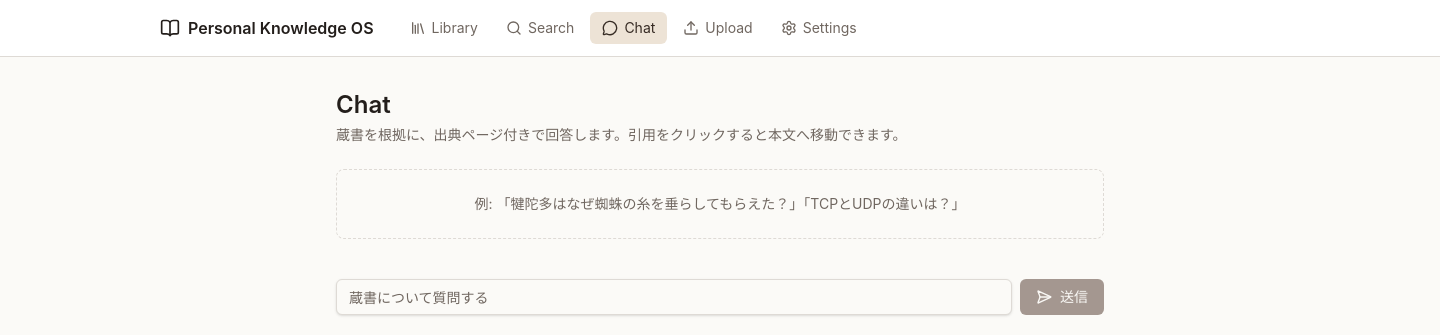
Scenario: ChatPage › ストリームエラー時はエラーメッセージを表示する
The width and height of the screenshot is (1440, 335).
Type "質問" into the field labelled "質問" at (674, 297), box [336, 279, 1012, 315]
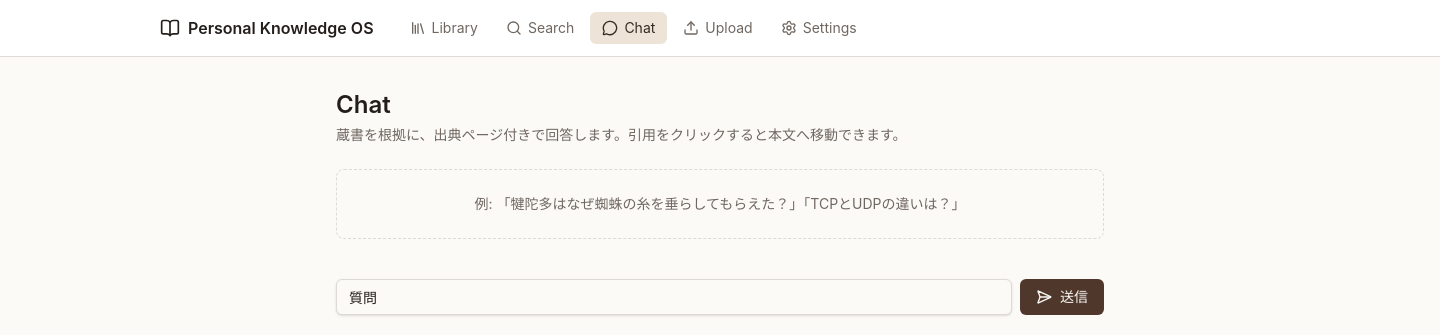
Click the button "送信" at (1062, 297), box [1020, 279, 1104, 315]
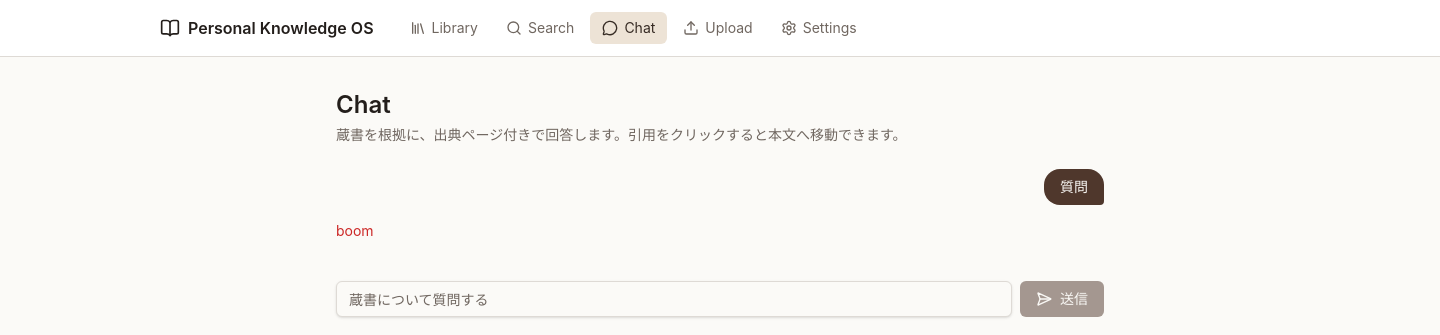
Expected: the message "boom" is shown, [336, 222, 374, 239]
